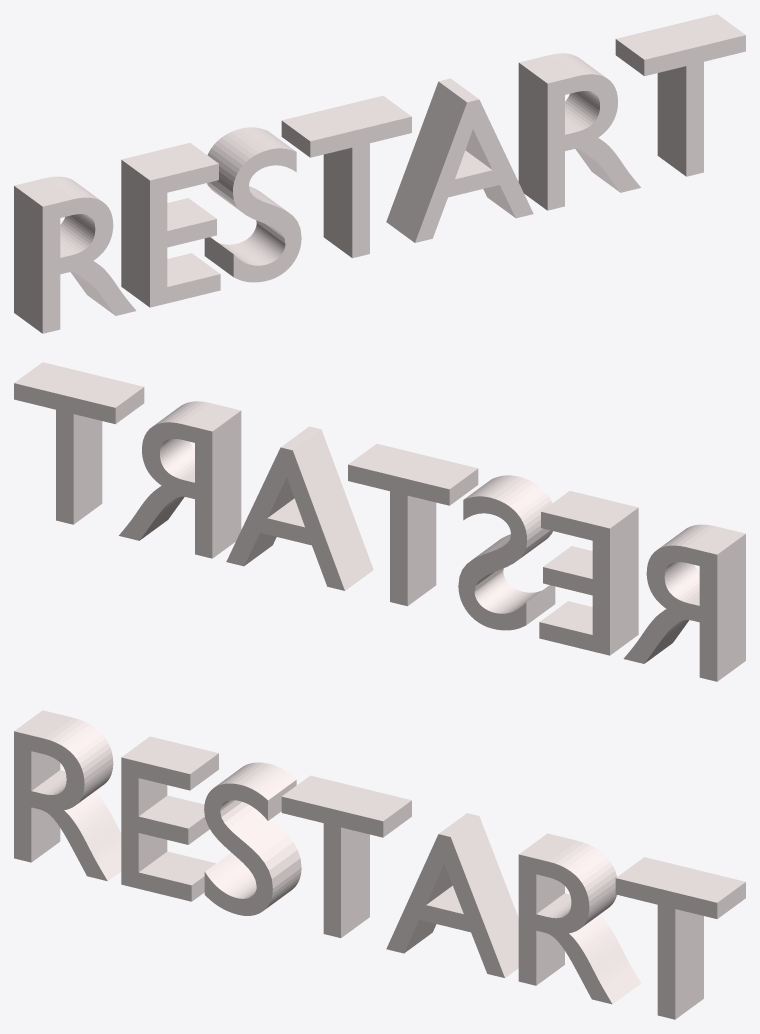
File: restart.obj
3 renders of one model, top to bottom at view 1: azimuth 30°, elevation 25°; view 2: azimuth 150°, elevation 25°; view 3: azimuth 330°, elevation 25°, orthographic.
Parts seen in each view (by area): view 1: テキスト; view 2: テキスト; view 3: テキスト.
Boxes of the visible parts, bbox=[...] form: テキスト: bbox=[14, 14, 745, 333]; テキスト: bbox=[14, 362, 745, 681]; テキスト: bbox=[14, 710, 745, 1019].
Size of the model in its own units: 3.95 by 0.7 by 0.2792.
1 material, 1 textured.
